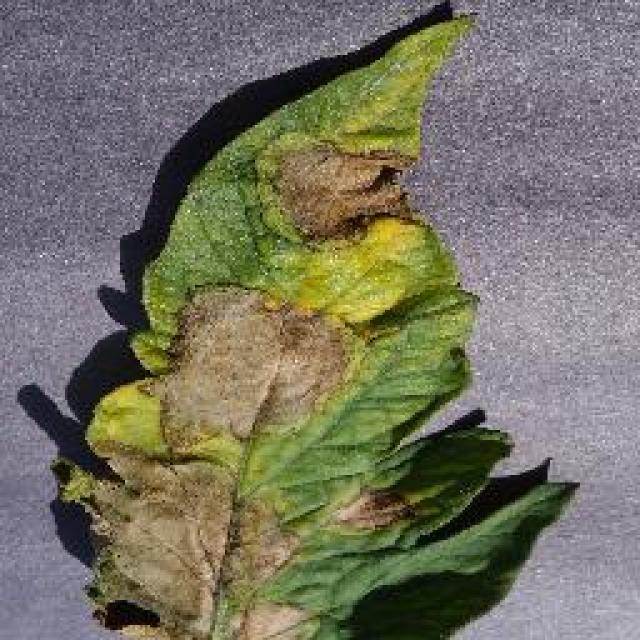Tomato_Late_Blight: (63, 447, 412, 636), (134, 275, 373, 439), (261, 117, 417, 258)
